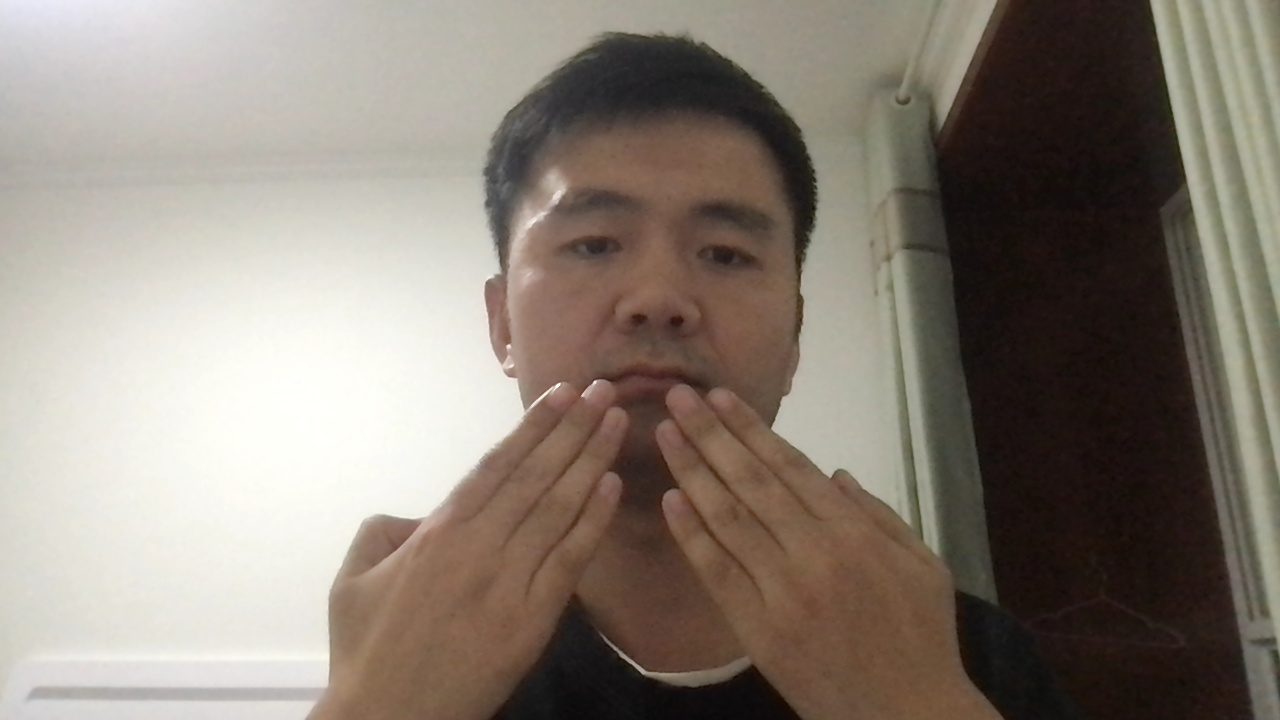thanks: (291, 364, 1036, 720)
